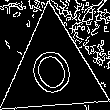O_SE: (24, 37, 82, 104)
